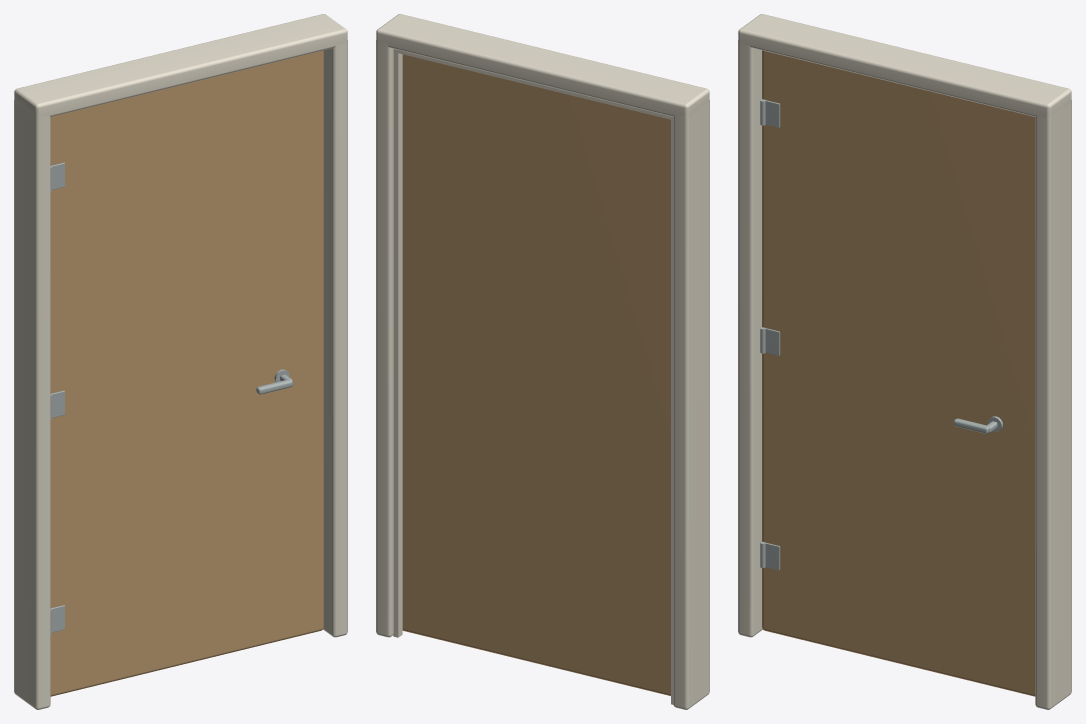
The model's file is FittedDoor.fbx.
3 views of the same model, side by side, from view 1: azimuth 30°, elevation 25°; view 2: azimuth 150°, elevation 25°; view 3: azimuth 330°, elevation 25° (orthographic).
Parts seen in each view (by area): view 1: Door leaf_fitted_2, Door jamb_fitted_0, Door jamb_fitted_1, Lintel_fitted_12; view 2: Door leaf_fitted_2, Door jamb_fitted_0, Lintel_fitted_12, Door jamb_fitted_1, Stop right, Stop left_fitted_13, Stop head; view 3: Door leaf_fitted_2, Door jamb_fitted_1, Door jamb_fitted_0, Lintel_fitted_12.
Boxes of the visible parts, left/top/right/bottom form: Door leaf_fitted_2: left=50, top=50, right=323, bottom=696; Door jamb_fitted_0: left=14, top=100, right=50, bottom=709; Door jamb_fitted_1: left=323, top=40, right=347, bottom=637; Lintel_fitted_12: left=14, top=14, right=347, bottom=117; Door leaf_fitted_2: left=402, top=54, right=670, bottom=695; Door jamb_fitted_0: left=673, top=100, right=709, bottom=709; Lintel_fitted_12: left=376, top=14, right=709, bottom=116; Door jamb_fitted_1: left=376, top=40, right=393, bottom=637; Stop right: left=393, top=49, right=402, bottom=637; Stop left_fitted_13: left=671, top=116, right=673, bottom=704; Stop head: left=398, top=50, right=670, bottom=119; Door leaf_fitted_2: left=762, top=50, right=1035, bottom=696; Door jamb_fitted_1: left=1035, top=100, right=1071, bottom=709; Door jamb_fitted_0: left=738, top=40, right=762, bottom=637; Lintel_fitted_12: left=738, top=14, right=1071, bottom=117.
Bounding box in the file's own units: 122 × 226 × 18.25.
